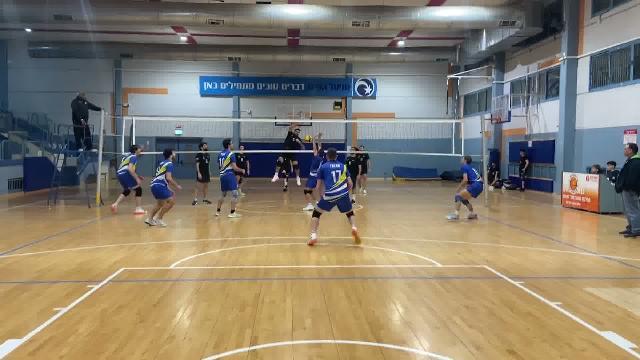ball: (301, 134, 314, 145)
